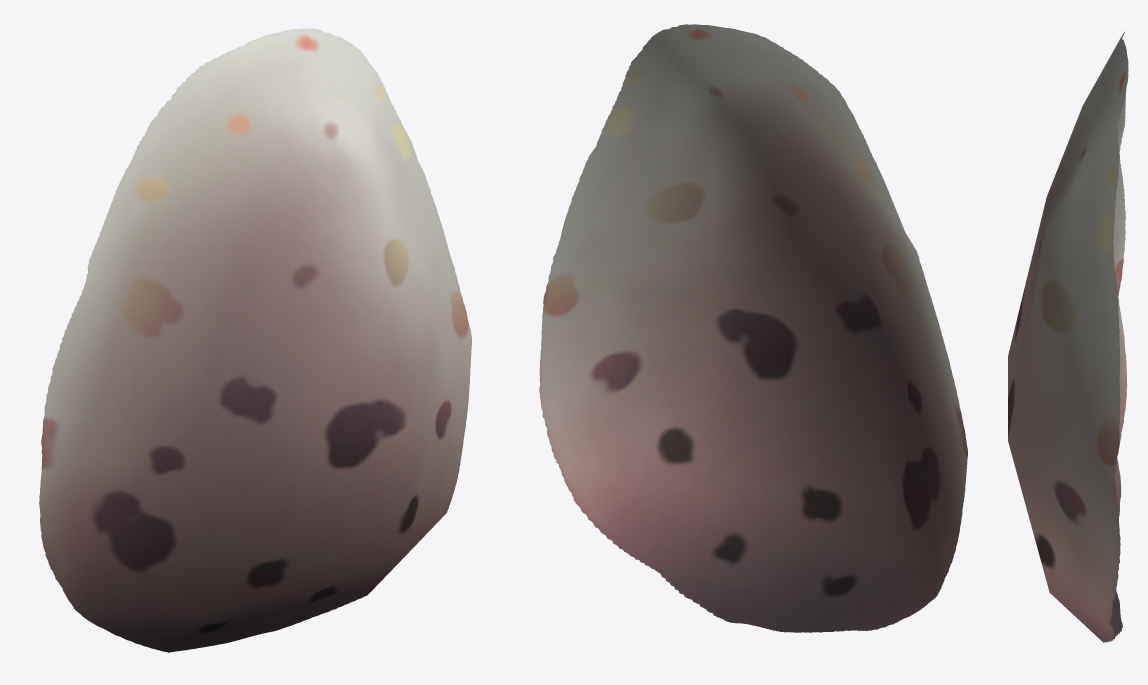
The model's file is Griffin Egg.FBX.
3 views of the same model, side by side, from view 1: azimuth 30°, elevation 25°; view 2: azimuth 150°, elevation 25°; view 3: azimuth 270°, elevation 25° (orthographic). The views are drawn at different scales.
Visible parts, largest first — view 1: Griffin Egg; view 2: Griffin Egg; view 3: Griffin Egg.
Boxes of the visible parts, x1,y1,x2,y2 form: Griffin Egg: (39, 28, 472, 652); Griffin Egg: (539, 24, 967, 632); Griffin Egg: (1008, 31, 1128, 642).
Size of the model in its own units: 185 by 44.52 by 238.
